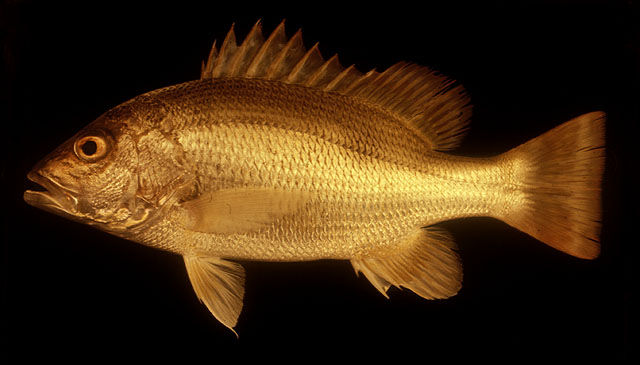fish: (24, 17, 606, 337)
